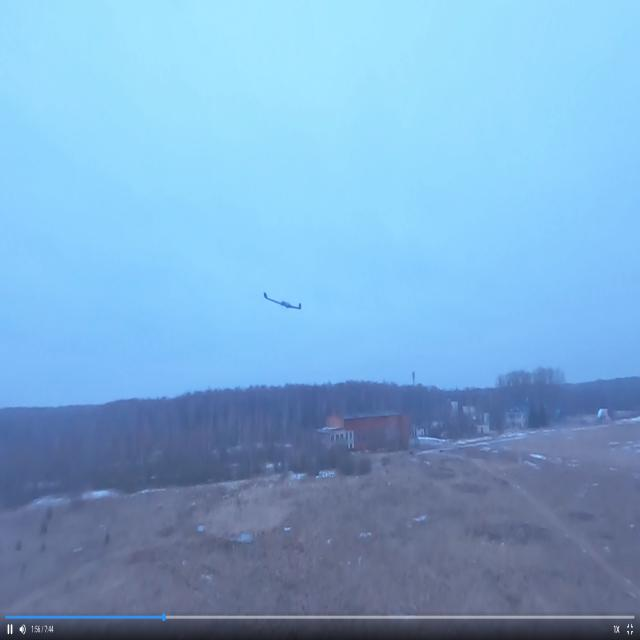planedrone: (261, 285, 301, 311)
